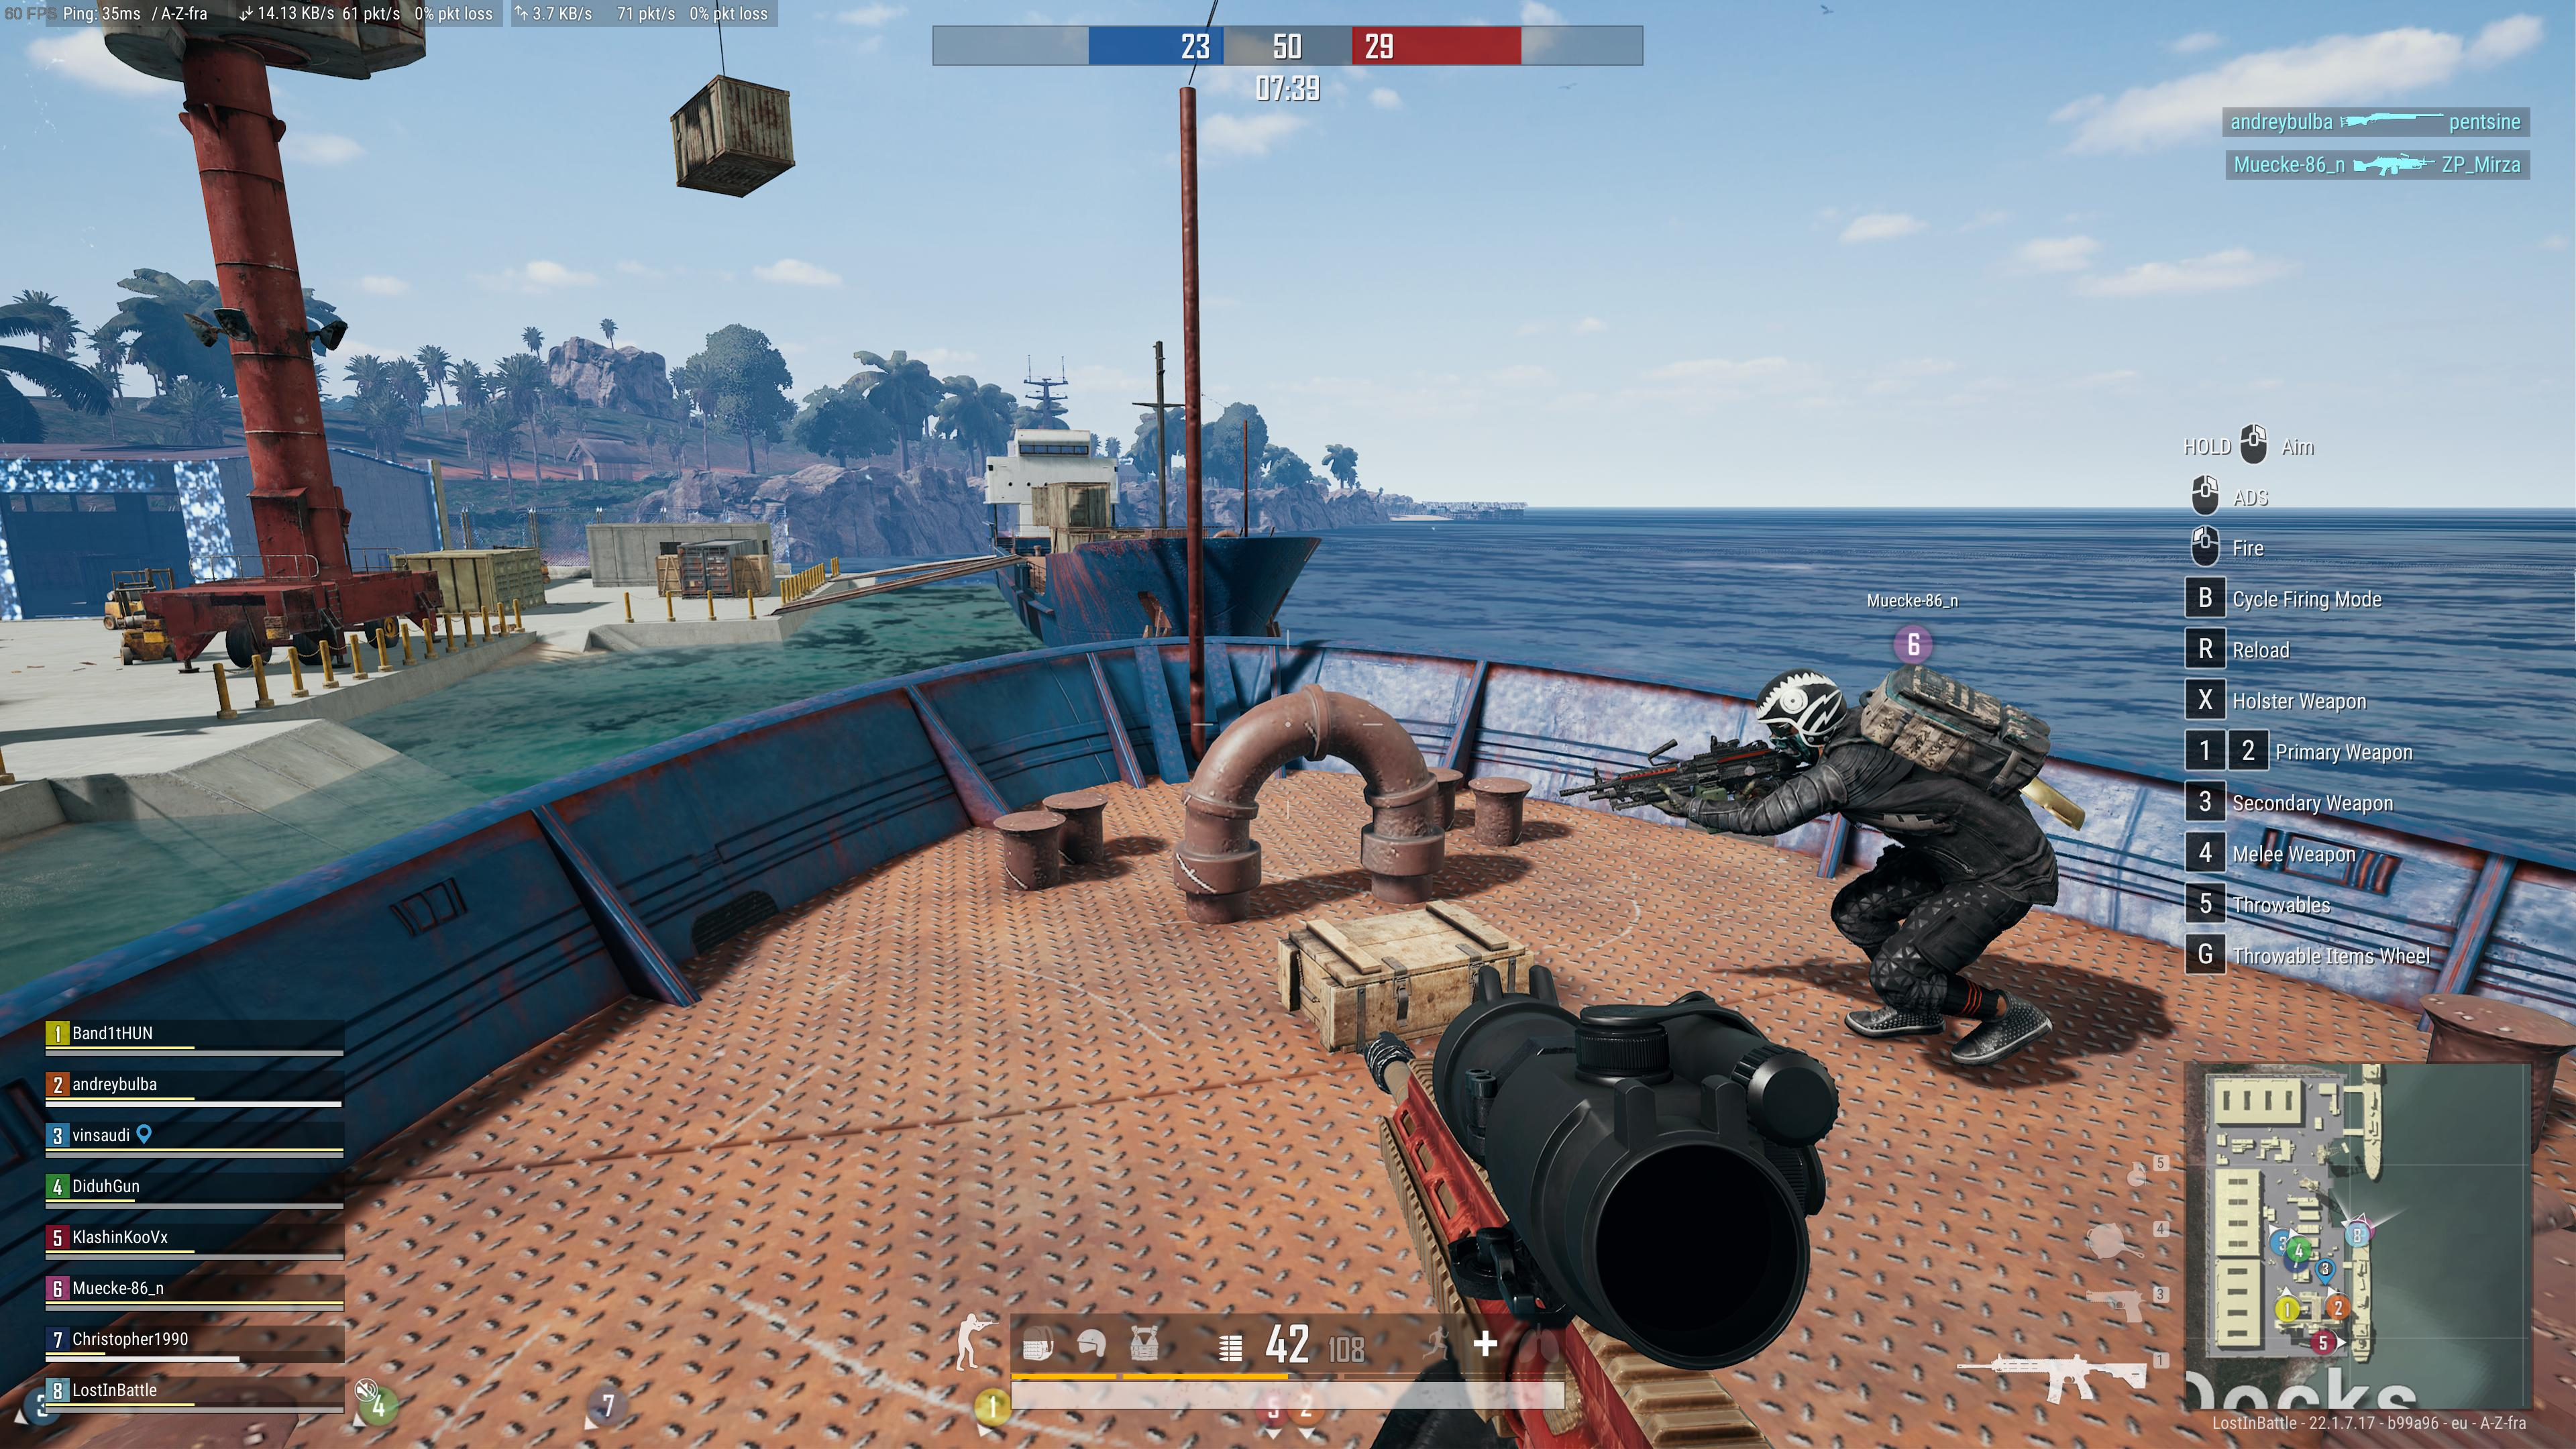friendly: (1649, 639, 2120, 1088)
